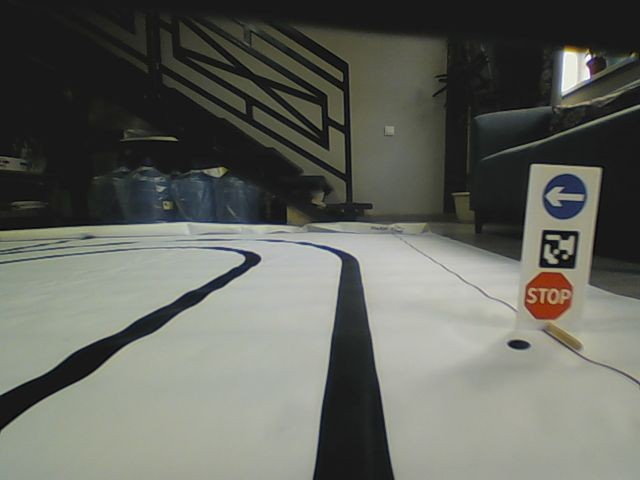Stop: (522, 270, 575, 322)
